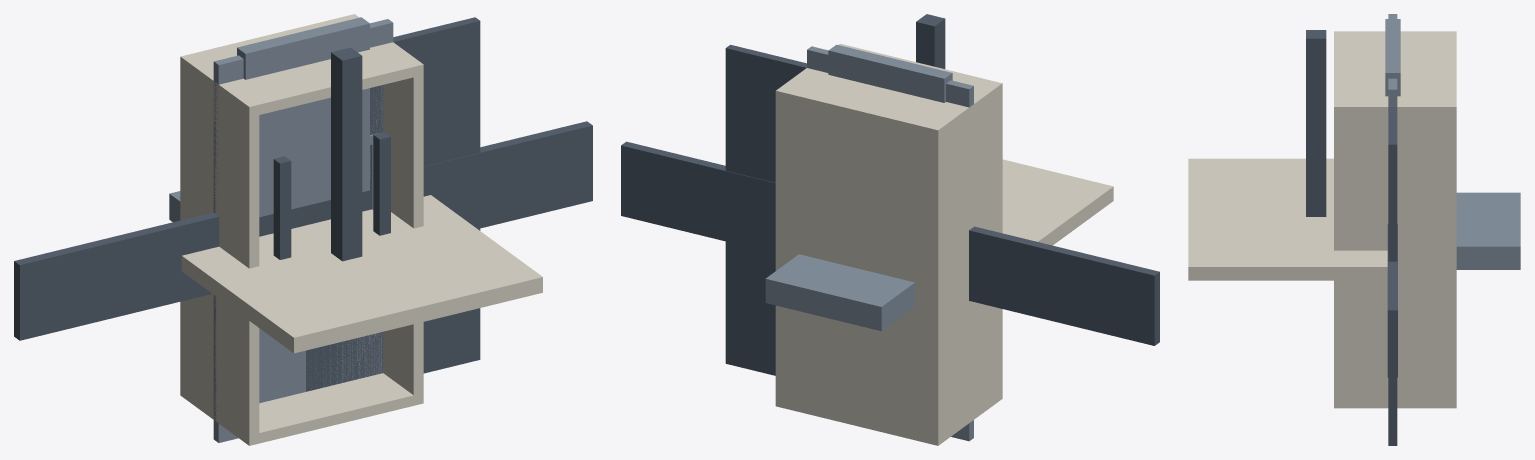
3 renders of one model, left to right at view 1: azimuth 30°, elevation 25°; view 2: azimuth 150°, elevation 25°; view 3: azimuth 270°, elevation 25°, orthographic. The views are drawn at different scales.
Parts seen in each view (by area): view 1: LockerShell, Table, Shutter, LockerDoor, SeatBack, SeatBase, ScreenPanel; view 2: LockerShell, Shutter, LockerDoor, SeatPad, Table, SeatBack, SeatBase, ScreenPanel; view 3: LockerShell, Table, SeatPad, SeatBase, LockerDoor, Shutter, SeatBack, ScreenPanel.
Part boxes in pixels (left/top/right/bottom): LockerShell: left=180, top=14, right=423, bottom=445; Table: left=181, top=195, right=542, bottom=353; Shutter: left=14, top=121, right=592, bottom=340; LockerDoor: left=306, top=17, right=480, bottom=391; SeatBack: left=237, top=17, right=369, bottom=217; SeatBase: left=273, top=47, right=390, bottom=261; ScreenPanel: left=213, top=19, right=393, bottom=442; LockerShell: left=775, top=43, right=1002, bottom=445; Shutter: left=621, top=141, right=1159, bottom=345; LockerDoor: left=725, top=44, right=806, bottom=375; SeatPad: left=765, top=254, right=914, bottom=331; Table: left=1002, top=159, right=1113, bottom=245; SeatBack: left=828, top=44, right=952, bottom=102; SeatBase: left=916, top=14, right=945, bottom=68; ScreenPanel: left=807, top=46, right=973, bottom=441; LockerShell: left=1334, top=31, right=1456, bottom=408; Table: left=1188, top=158, right=1387, bottom=280; SeatPad: left=1456, top=192, right=1520, bottom=269; SeatBase: left=1306, top=30, right=1326, bottom=216; LockerDoor: left=1388, top=107, right=1397, bottom=445; Shutter: left=1387, top=224, right=1397, bottom=377; SeatBack: left=1385, top=19, right=1400, bottom=96; ScreenPanel: left=1388, top=14, right=1397, bottom=106.
Bounding box in the file's own units: 2.3 × 1.53 × 1.3.
